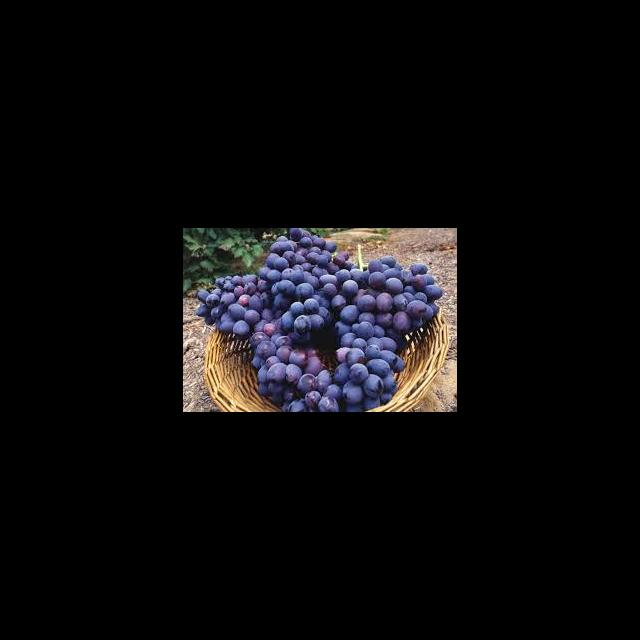grape: (194, 228, 443, 411)
